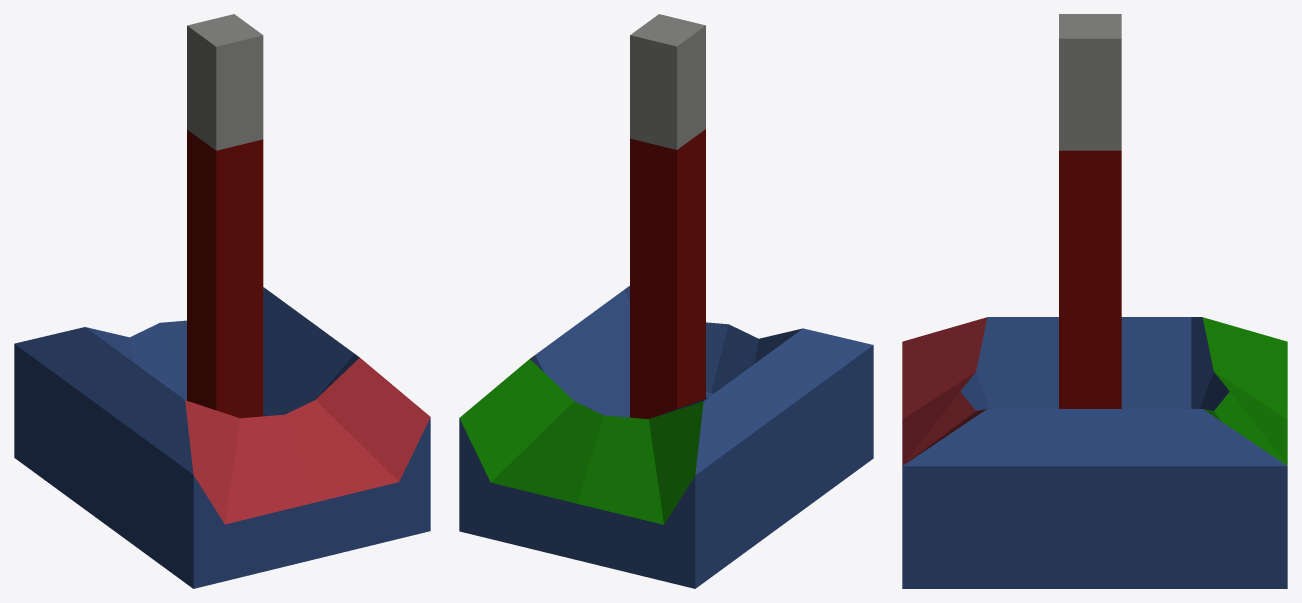
File: lever.fbx
The picture shows the model from 3 angles, left to right: view 1: azimuth 30°, elevation 25°; view 2: azimuth 150°, elevation 25°; view 3: azimuth 270°, elevation 25°; orthographic projection. The views are drawn at different scales.
Parts seen in each view (by area): view 1: Cube.001, Cube; view 2: Cube.001, Cube; view 3: Cube.001, Cube.
Boxes of the visible parts, x1,y1,x2,y2 form: Cube.001: (14, 287, 430, 588); Cube: (187, 14, 263, 418); Cube.001: (459, 286, 873, 588); Cube: (630, 14, 705, 419); Cube.001: (902, 317, 1287, 588); Cube: (1059, 14, 1121, 408).
Size of what is drawn, in the model's own units: 221 by 415 by 290.
